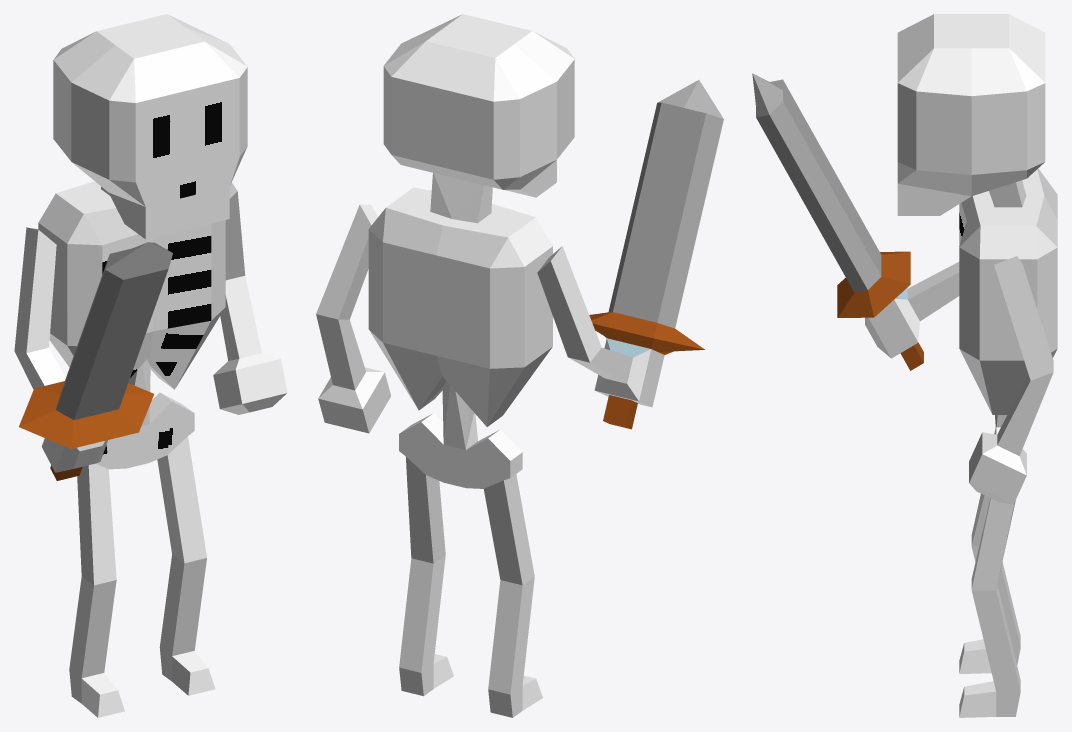
The model's file is skeleton.obj.
The picture shows the model from 3 angles, left to right: view 1: azimuth 30°, elevation 25°; view 2: azimuth 150°, elevation 25°; view 3: azimuth 270°, elevation 25°; orthographic projection.
Parts seen in each view (by area): view 1: cuboid; view 2: cuboid; view 3: cuboid.
Part boxes in pixels (box(x1,y1,x2,y2)): cuboid: box(14, 14, 287, 717); cuboid: box(316, 14, 723, 717); cuboid: box(752, 14, 1057, 717).
Bounding box in the file's own units: 0.625 × 1.25 × 0.5256.
1 material, 1 textured.
